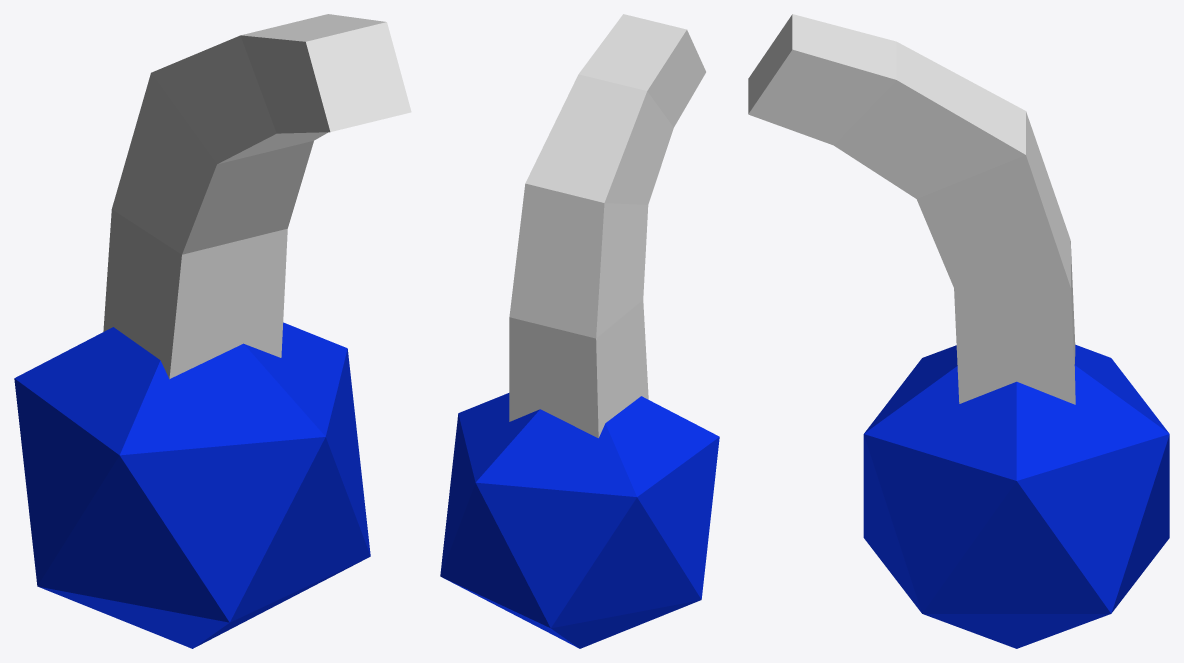
Rendered from CaveLamp.fbx.
3 renders of one model, left to right at view 1: azimuth 30°, elevation 25°; view 2: azimuth 150°, elevation 25°; view 3: azimuth 270°, elevation 25°, orthographic. The views are drawn at different scales.
Visible parts, largest first — view 1: caveLamp; view 2: caveLamp; view 3: caveLamp.
Boxes of the visible parts, left/top/right/bottom form: caveLamp: left=14, top=14, right=411, bottom=648; caveLamp: left=440, top=14, right=719, bottom=648; caveLamp: left=748, top=14, right=1169, bottom=648.
Size of the model in its own units: 179 by 386 by 234.
